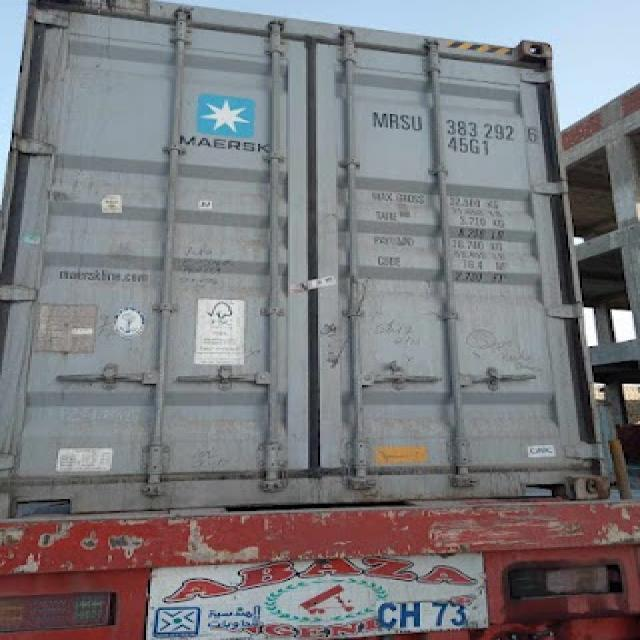ISO: (448, 136, 490, 156)
container_number: (376, 115, 534, 139)
